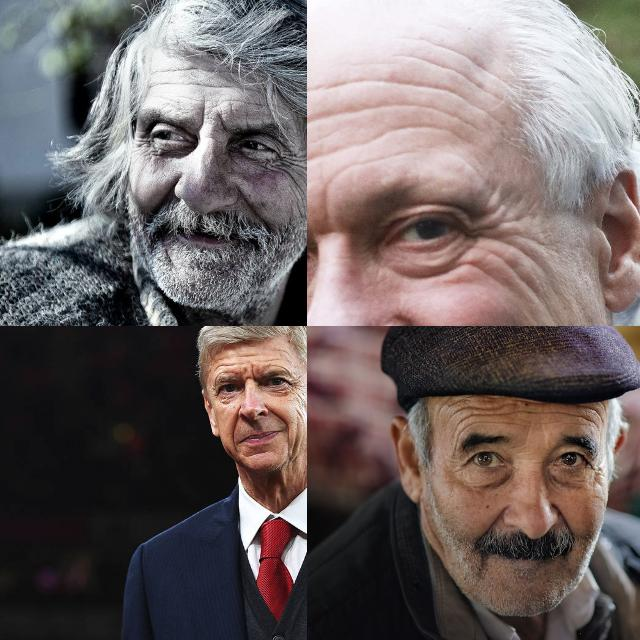chin: (246, 448, 270, 459)
crows_feet: (476, 210, 516, 258), (278, 146, 298, 178), (136, 133, 154, 161), (591, 464, 607, 488), (452, 458, 470, 476), (290, 381, 304, 397)
forehead: (399, 72, 467, 146), (336, 78, 386, 156), (412, 38, 486, 76), (447, 399, 507, 428), (570, 402, 604, 428), (307, 86, 318, 162), (150, 75, 183, 92), (194, 78, 226, 94), (153, 64, 195, 76), (240, 95, 266, 109), (212, 360, 238, 372), (263, 356, 287, 369)
frown_line: (313, 182, 343, 224), (193, 106, 211, 128), (215, 110, 231, 132), (514, 440, 530, 460), (244, 365, 256, 383)
gummy_smile: (482, 498, 508, 536), (241, 189, 265, 227), (554, 502, 576, 536), (153, 179, 177, 207), (268, 403, 288, 425), (229, 412, 243, 438)
masseter: (290, 189, 307, 215), (294, 405, 307, 423)
sad_smile: (282, 429, 292, 445), (230, 438, 240, 454)
